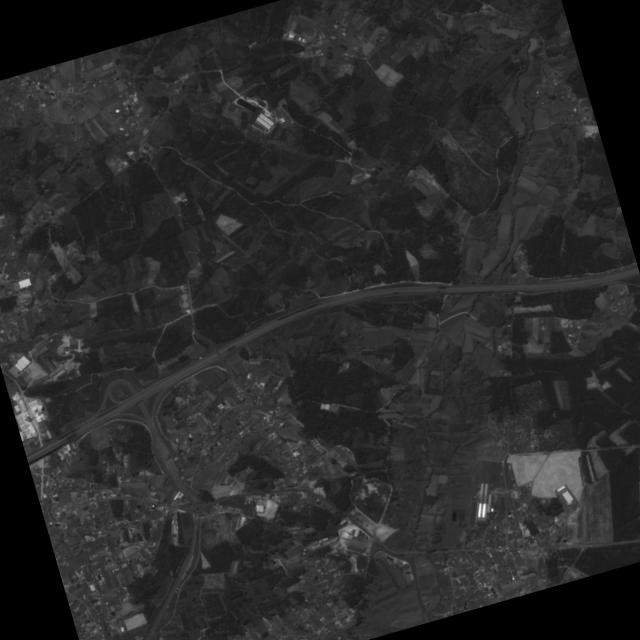storage-tank: (179, 291, 189, 300), (181, 299, 190, 307)
